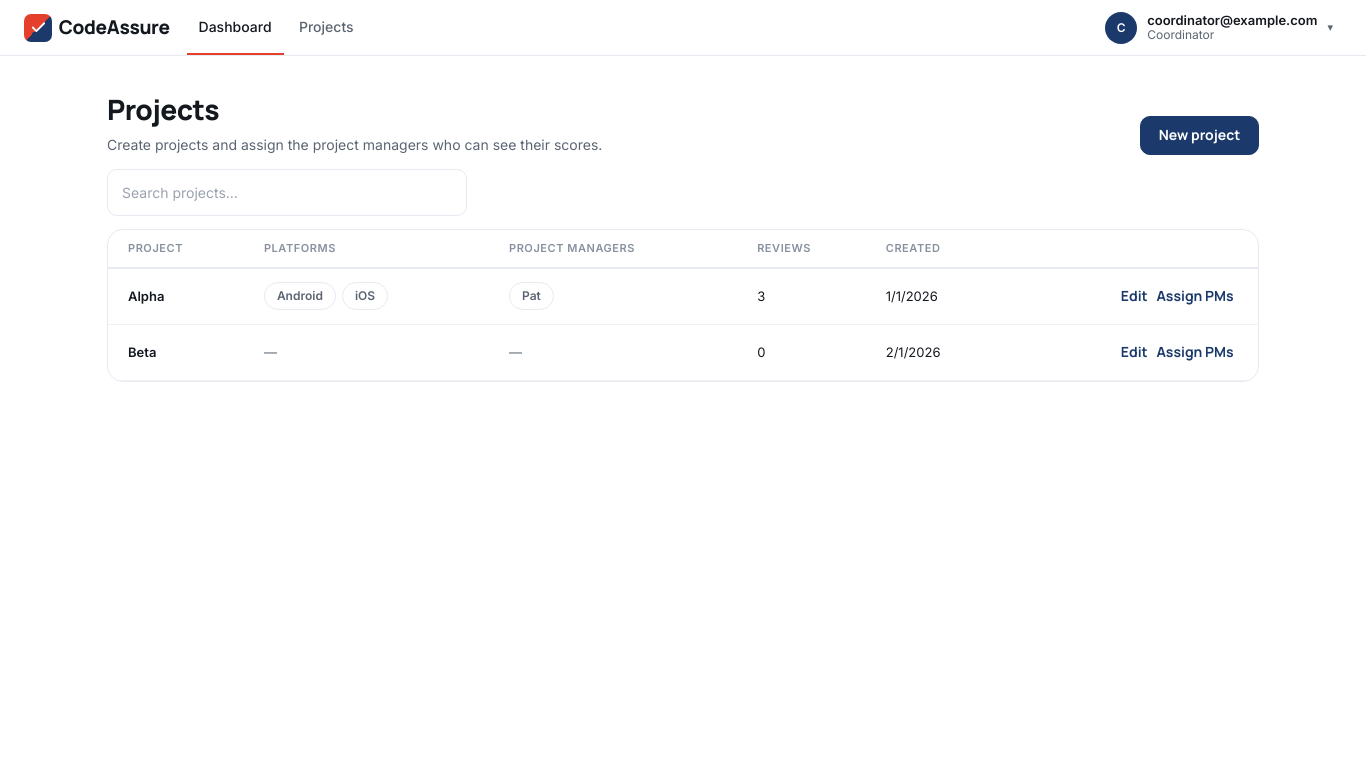
it: creating a project
Check: the text "Alpha" is shown, box [108, 268, 252, 324]
Click the button "New project" at (1200, 135), box [1140, 116, 1259, 155]
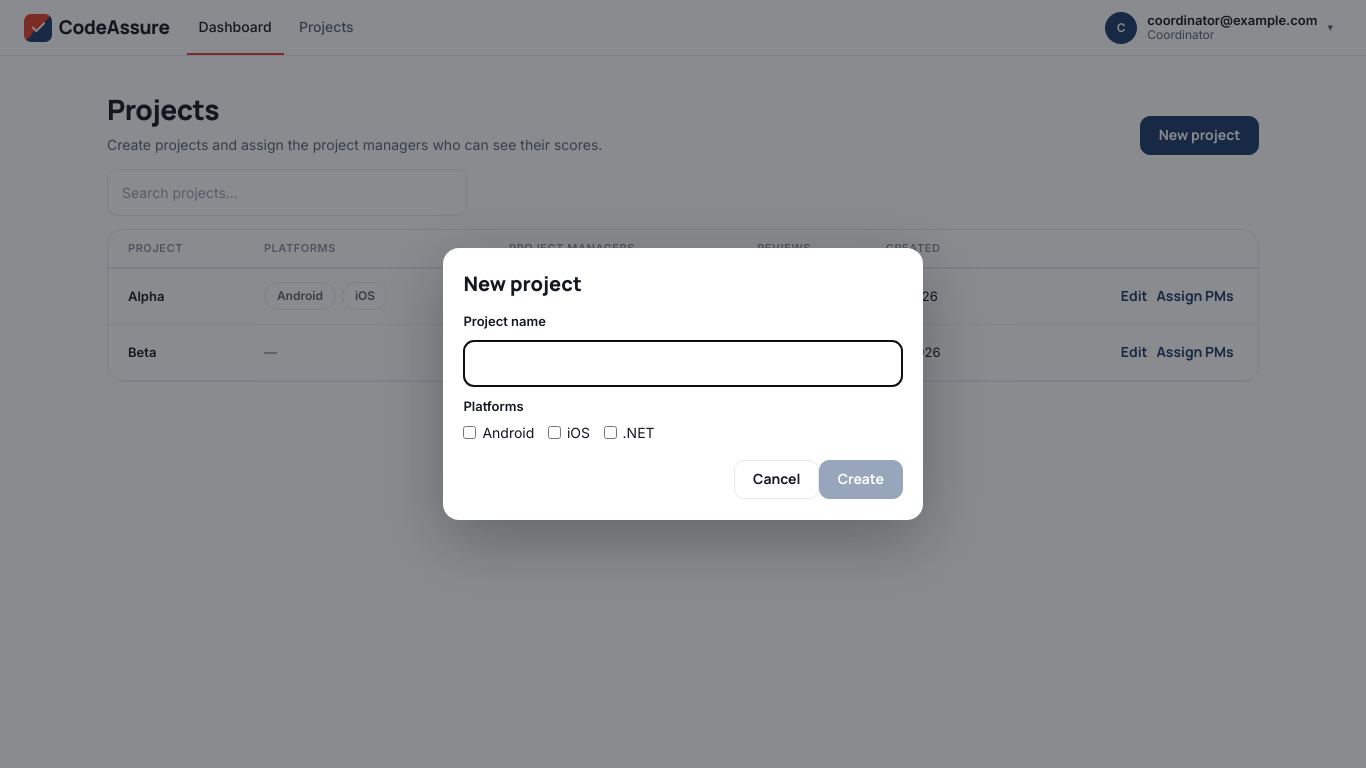
Type "Gamma" into the field labelled "Project name" at (683, 363), box [463, 340, 903, 387]
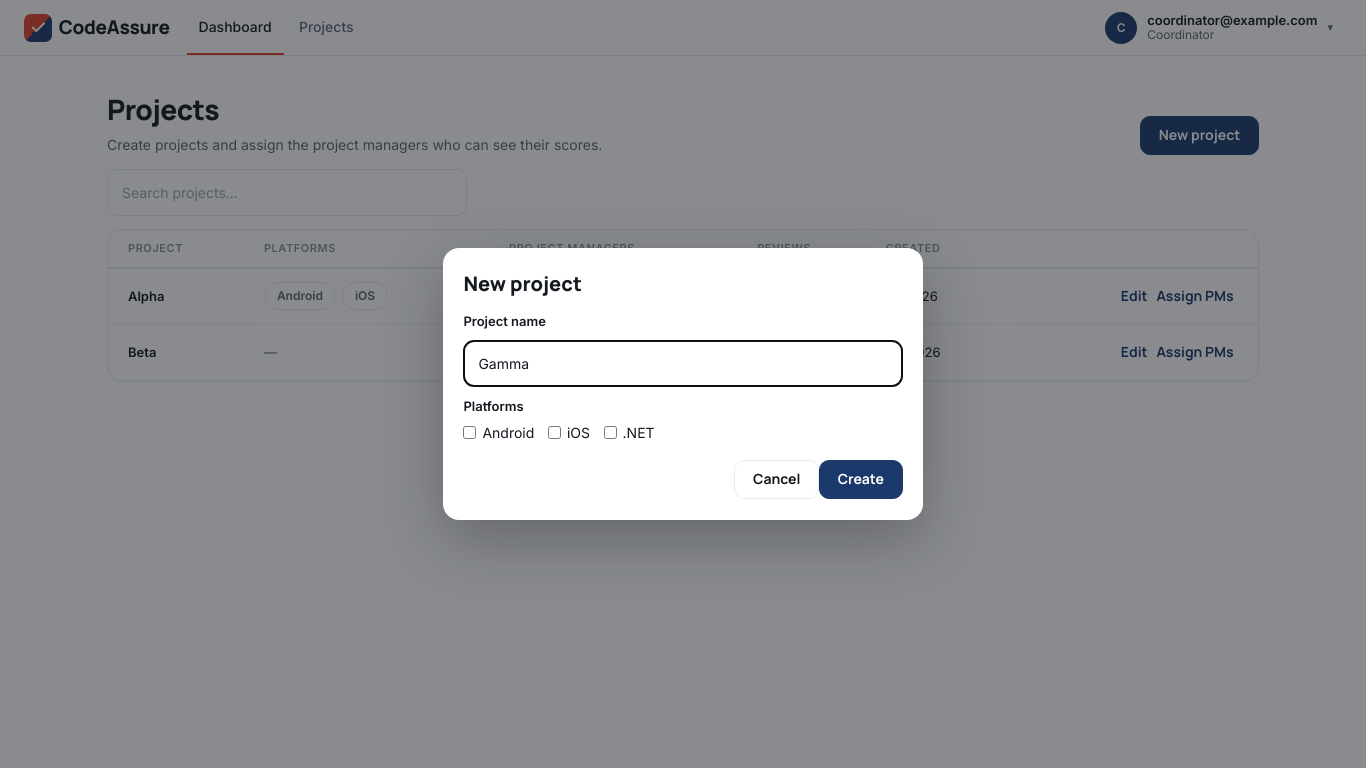
Click the button "Create" at (861, 480), box [819, 460, 903, 500]
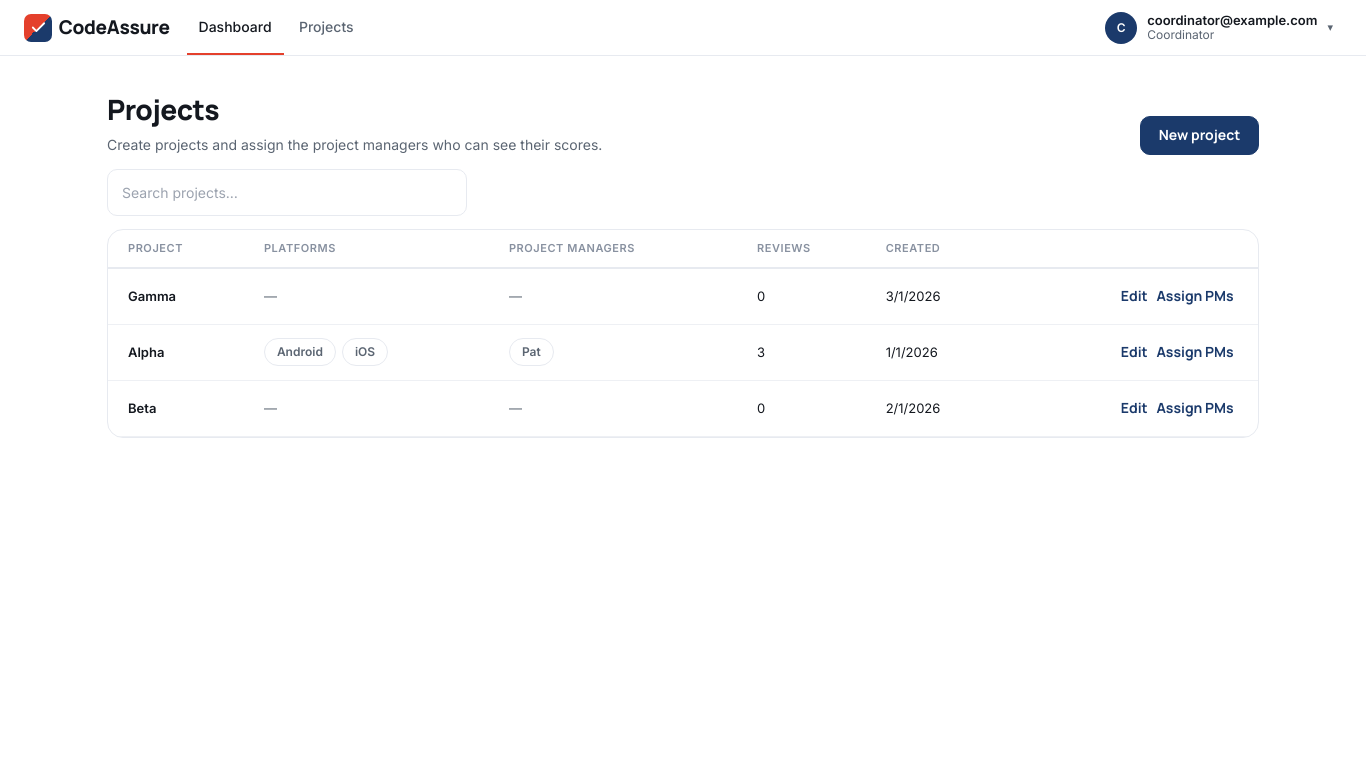
Check: the text "Gamma" is shown, box [108, 268, 252, 324]
